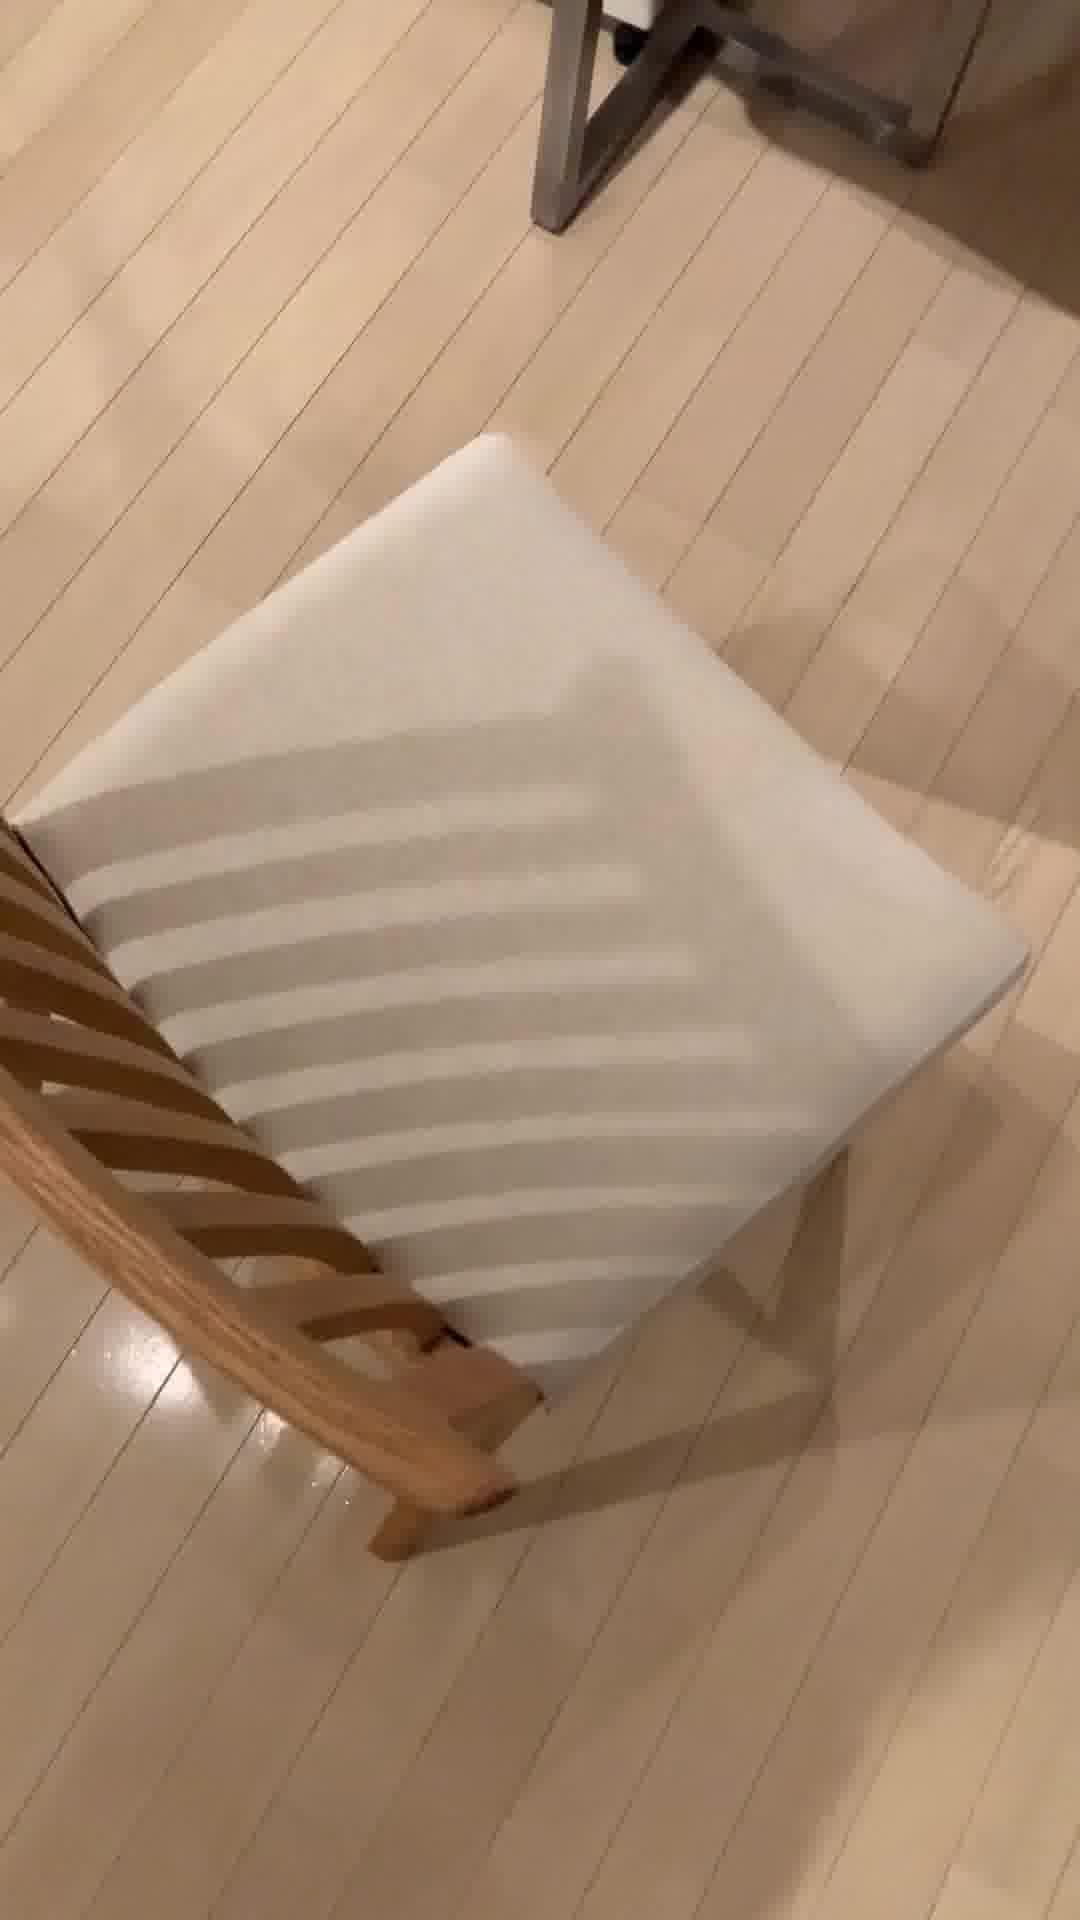takumikan-chair: (0, 429, 1027, 1575)
